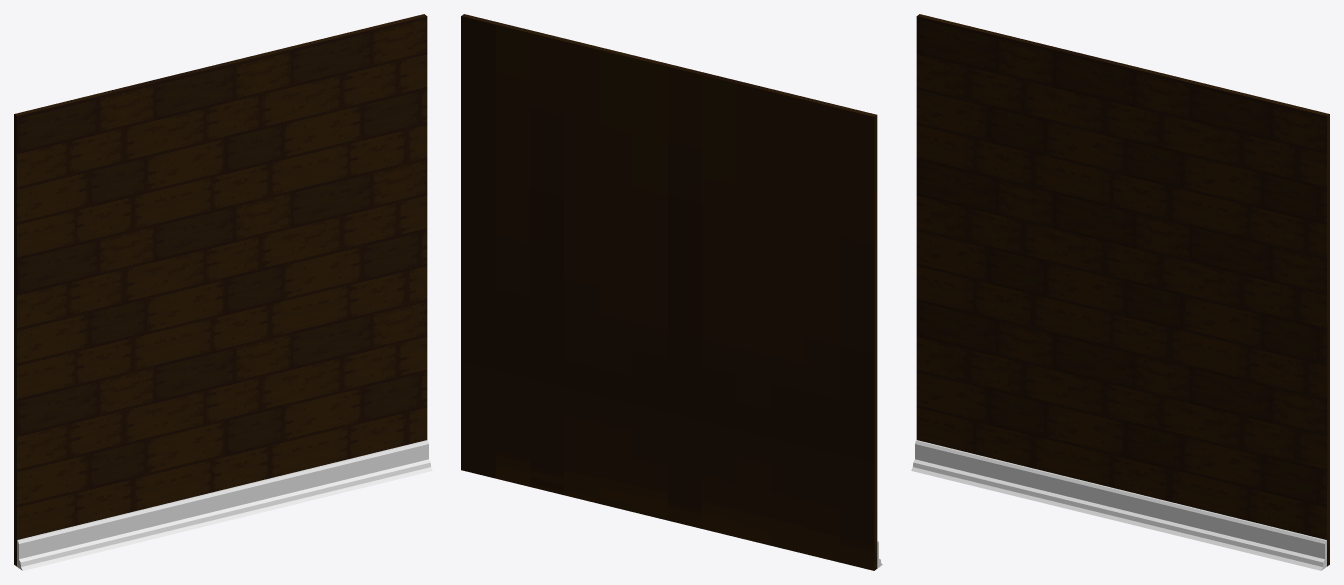
Rendered from wall_2.glb.
3 views of the same model, side by side, from view 1: azimuth 30°, elevation 25°; view 2: azimuth 150°, elevation 25°; view 3: azimuth 330°, elevation 25° (orthographic).
Parts seen in each view (by area): view 1: Cube.007; view 2: Cube.007; view 3: Cube.007.
Boxes of the visible parts, left/top/right/bottom form: Cube.007: left=14, top=14, right=432, bottom=570; Cube.007: left=461, top=14, right=882, bottom=570; Cube.007: left=911, top=14, right=1329, bottom=570.
Size of the model in its own units: 8 by 8.4 by 0.2881.
Materials: 2 (1 with a texture image).
